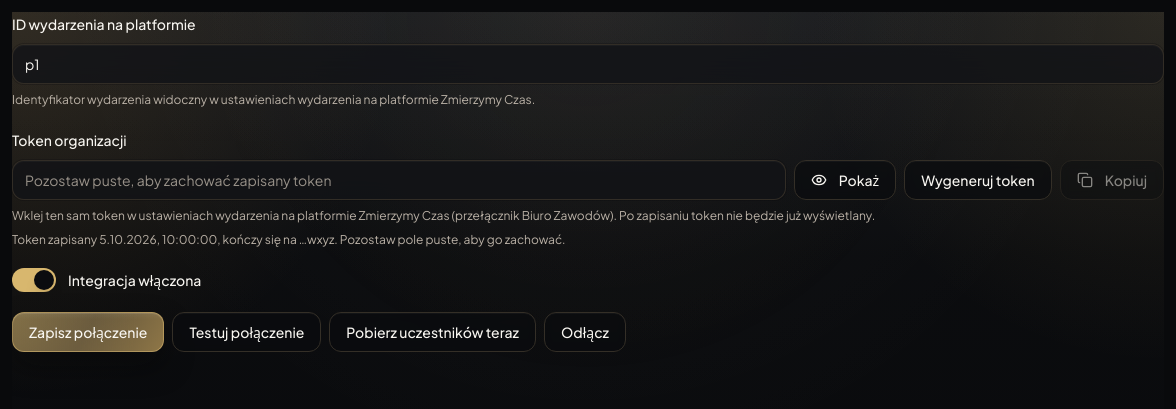
Test: EventPlatformConnectionSection › shows the in-progress message on 409
The width and height of the screenshot is (1176, 409).
Click the button "Pobierz uczestników teraz" at (433, 332), box [329, 312, 536, 352]
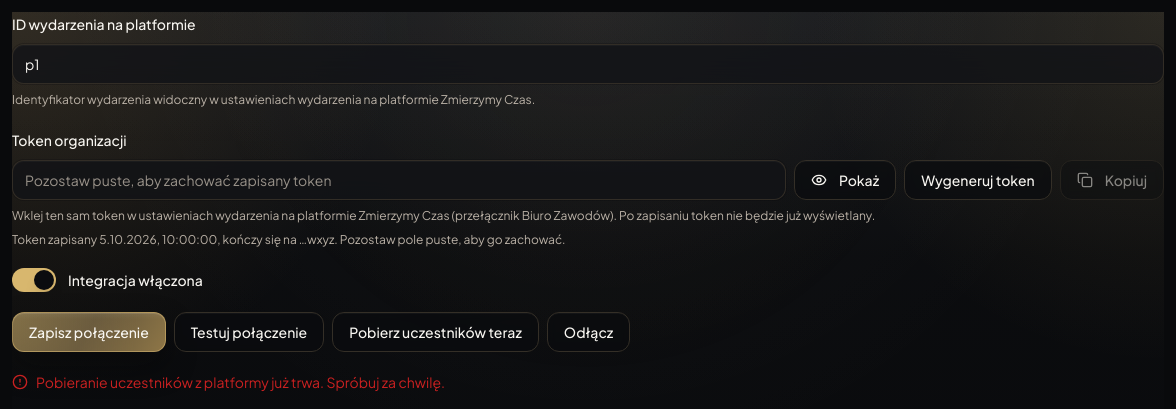
Check: the text "Pobieranie uczestników z platformy już trwa. Spróbuj za chwilę." is shown, box [36, 372, 445, 392]
